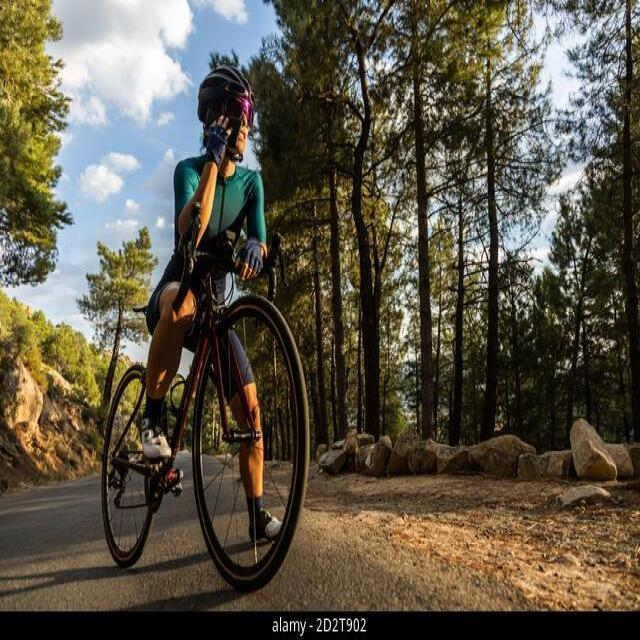Usage Of Phone While Riding: (158, 57, 330, 460)
